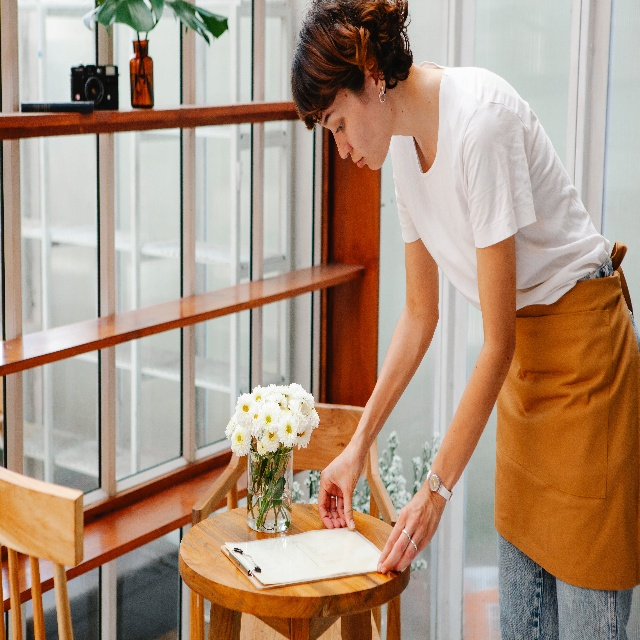Sin_guantes: (377, 481, 443, 575), (317, 440, 365, 531)
